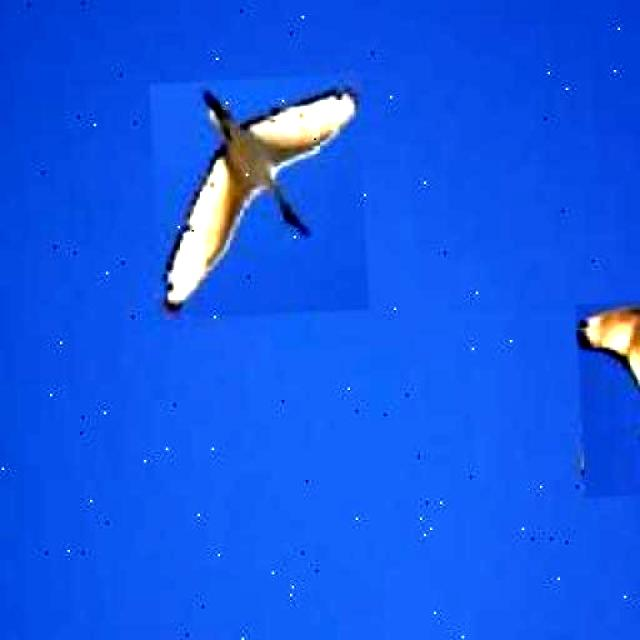airplane: (149, 72, 369, 321), (575, 295, 640, 499)
